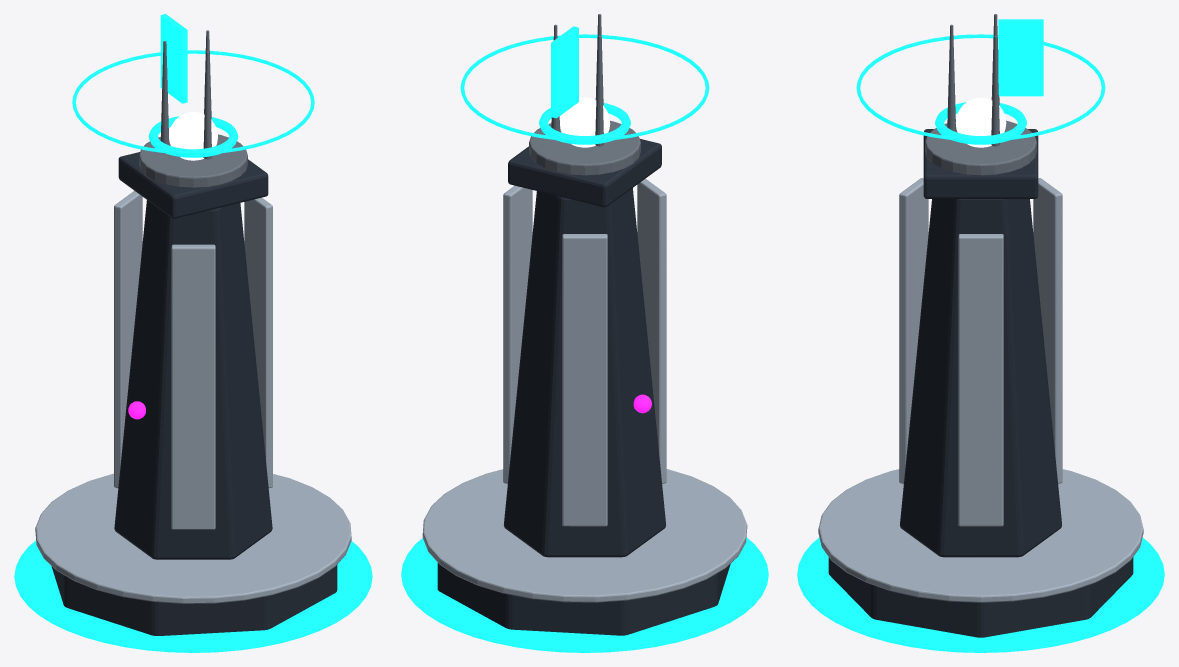
Rendered from axiom_beacon.glb.
The picture shows the model from 3 angles, left to right: view 1: azimuth 30°, elevation 25°; view 2: azimuth 150°, elevation 25°; view 3: azimuth 270°, elevation 25°; orthographic projection. The views are drawn at different scales.
Visible parts, largest first — view 1: Beacon_Capital, Beacon_Crest, Beacon_Optic; view 2: Beacon_Capital, Beacon_Crest, Beacon_Optic; view 3: Beacon_Capital, Beacon_Crest, Beacon_Optic.
Boxes of the visible parts, x1,y1,x2,y2 form: Beacon_Capital: (35,30,351,635); Beacon_Crest: (14,14,372,652); Beacon_Optic: (169,112,217,160); Beacon_Capital: (422,14,747,635); Beacon_Crest: (401,26,768,652); Beacon_Optic: (560,97,610,147); Beacon_Capital: (818,14,1143,637); Beacon_Crest: (797,19,1164,652); Beacon_Optic: (955,97,1006,147).
Size of the model in its own units: 2.76 by 4.61 by 2.76.
Materials: 4 (4 with a texture image).
